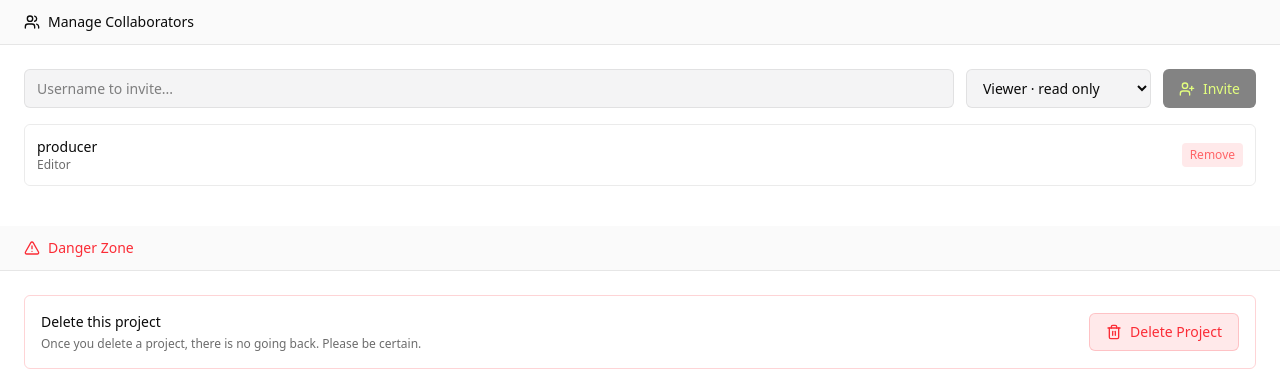
Test: ProjectSettings collaboration and deletion › removes a collaborator only after confirmation
The image size is (1280, 386).
Click the button "Remove" at (1212, 155), box [1182,143,1243,167]
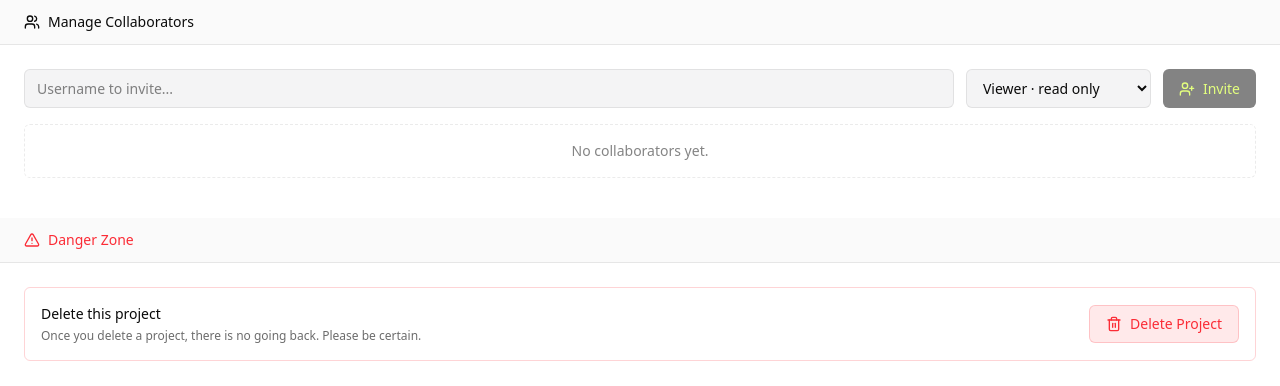
Expected: the text "producer" is gone
